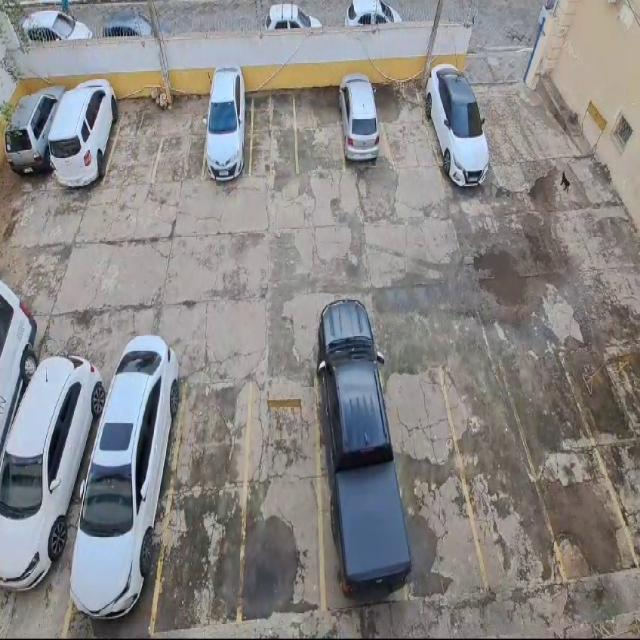empty: (499, 354, 637, 581), (441, 362, 566, 587), (379, 367, 486, 599), (151, 383, 251, 630), (239, 378, 324, 619), (105, 98, 170, 184), (376, 83, 439, 168), (153, 99, 211, 186), (294, 87, 344, 173), (251, 88, 298, 175)
notEmpty: (65, 383, 185, 633), (0, 383, 110, 631), (317, 373, 407, 608), (52, 98, 125, 188), (419, 80, 489, 167), (10, 99, 79, 187), (337, 84, 392, 168), (204, 91, 253, 181)
